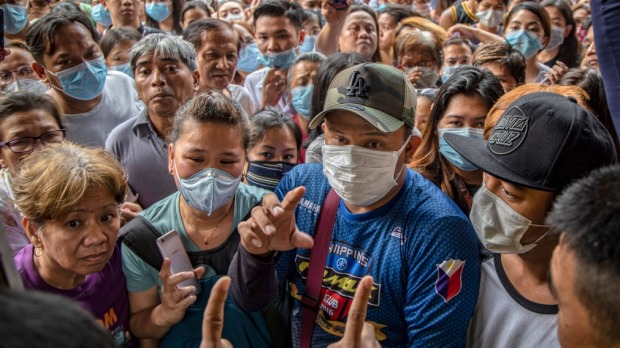mask_weared_incorrect: (254, 19, 303, 64)
with_mask: (465, 166, 561, 262), (319, 121, 411, 209), (169, 132, 250, 214), (428, 94, 502, 171), (245, 128, 303, 193), (35, 45, 111, 93), (285, 58, 339, 122), (395, 43, 442, 87), (503, 14, 545, 61)
without_mask: (46, 188, 125, 277), (133, 49, 196, 111), (192, 34, 240, 89), (342, 14, 378, 57)
